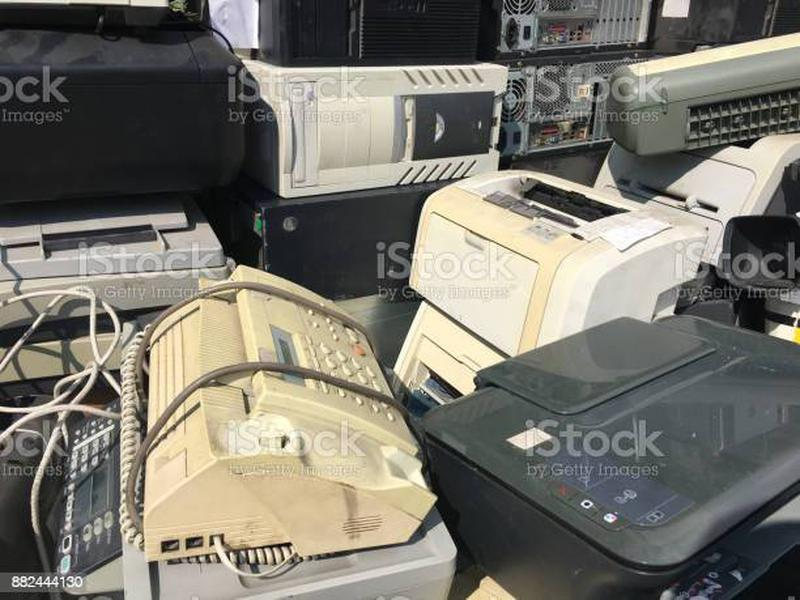printer: (408, 307, 800, 596), (406, 168, 713, 358)
